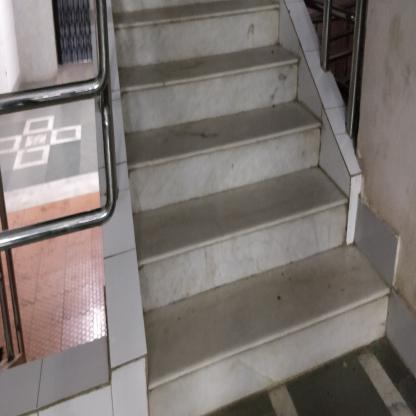stairs: (166, 45, 300, 416)
